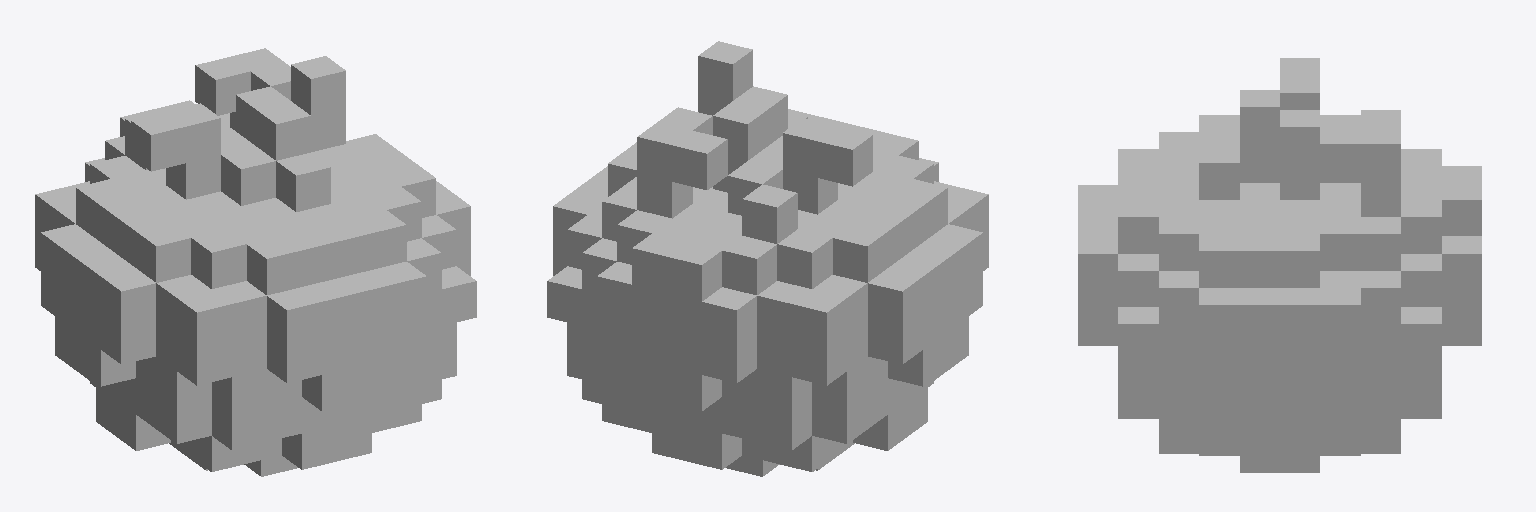
File: fraise 10 x 10.obj
3 renders of one model, left to right at view 1: azimuth 30°, elevation 25°; view 2: azimuth 150°, elevation 25°; view 3: azimuth 270°, elevation 25°, orthographic.
Visible parts, largest first — view 1: object 1; view 2: object 1; view 3: object 1.
Boxes of the visible parts, box(x1,y1,x2,y2) form: object 1: box(35, 48, 476, 476); object 1: box(547, 41, 988, 476); object 1: box(1078, 58, 1481, 472).
Bounding box in the file's own units: 1 × 1 × 1.